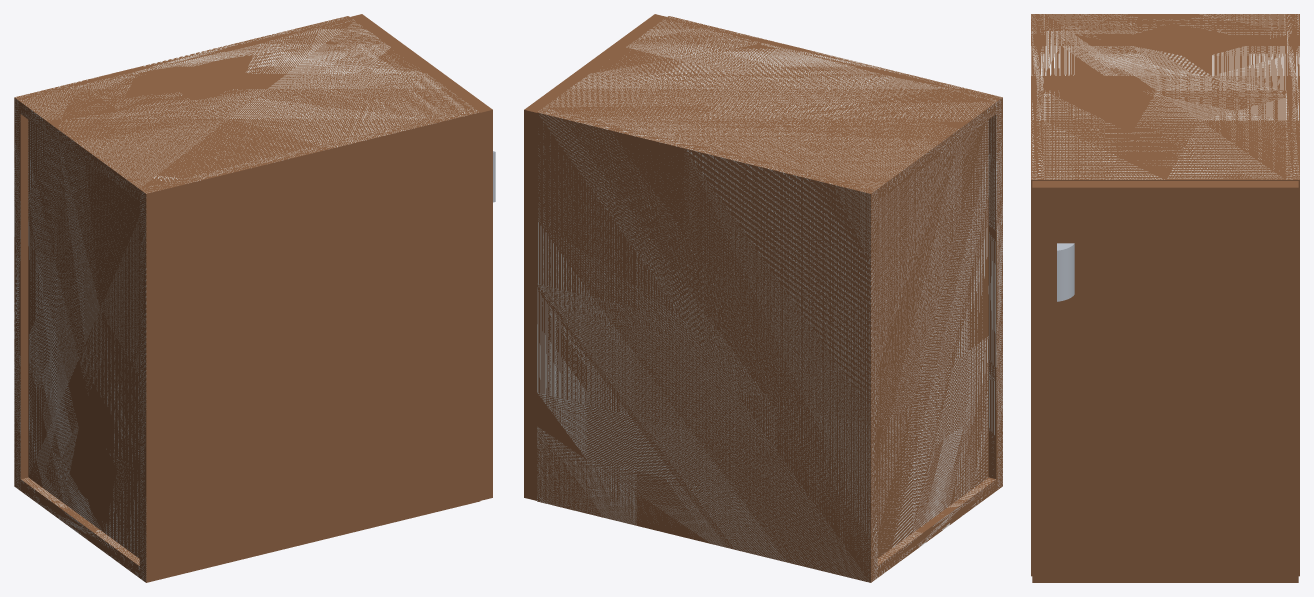
Rendered from small door.dae.
The picture shows the model from 3 angles, left to right: view 1: azimuth 30°, elevation 25°; view 2: azimuth 150°, elevation 25°; view 3: azimuth 270°, elevation 25°; orthographic projection.
Visible parts, largest first — view 1: group_4 (×2), group_5, group_6, group_7 (×2), group_1, group_3; view 2: group_7, group_5, group_6, group_4, group_1, group_3; view 3: group_1, group_5, group_4 (×2), group_7 (×2), group_2.
Boxes of the visible parts, <box> form: group_4 (×2): <box>139,107,480,582</box>; group_5: <box>20,20,473,200</box>; group_6: <box>28,120,139,558</box>; group_7 (×2): <box>14,16,354,490</box>; group_1: <box>350,14,492,500</box>; group_3: <box>20,477,139,577</box>; group_7: <box>537,107,877,582</box>; group_5: <box>544,20,996,200</box>; group_6: <box>877,120,988,558</box>; group_4: <box>662,16,1002,490</box>; group_1: <box>524,14,666,500</box>; group_3: <box>877,477,996,577</box>; group_1: <box>1032,181,1298,582</box>; group_5: <box>1044,14,1286,179</box>; group_4 (×2): <box>1031,14,1044,576</box>; group_7 (×2): <box>1286,14,1299,576</box>; group_2: <box>1057,244,1074,301</box>.
Bounding box in the file's own units: 23.82 × 15.02 × 24.44.
Materials: 3 (3 with a texture image).
